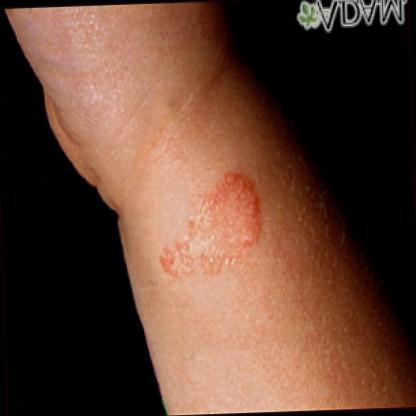Ringworm: (148, 160, 274, 298)
